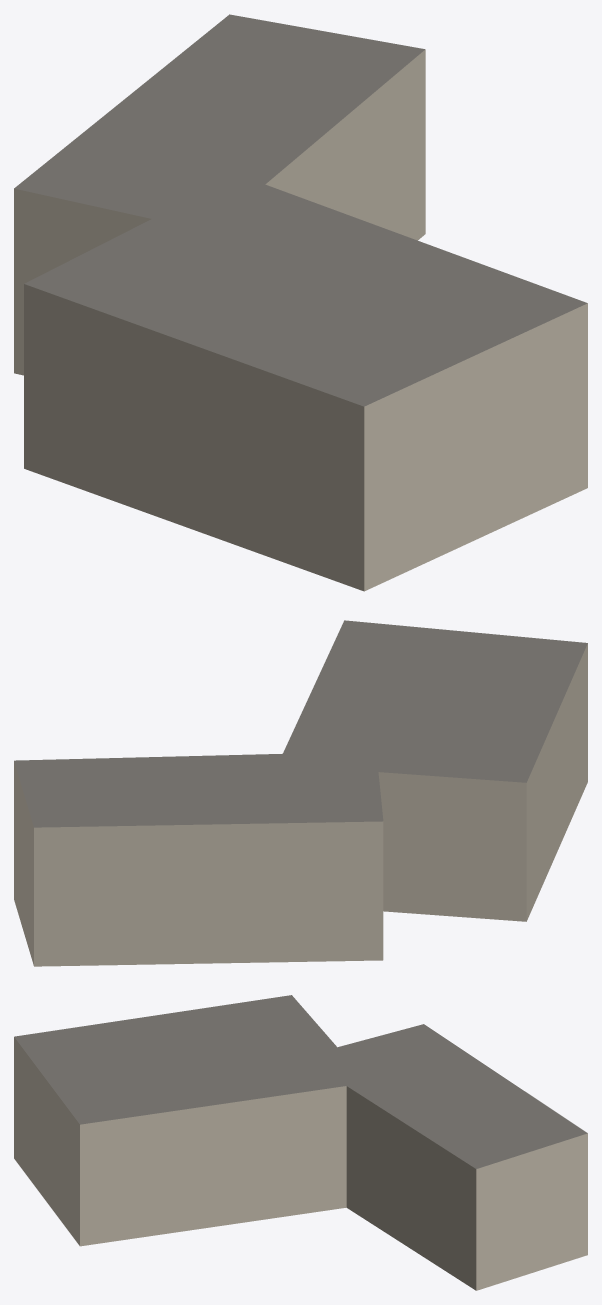
3 views of the same model, one above another, from view 1: azimuth 30°, elevation 25°; view 2: azimuth 150°, elevation 25°; view 3: azimuth 270°, elevation 25° (orthographic). The views are drawn at different scales.
Parts seen in each view (by area): view 1: HP-w505633364; view 2: HP-w505633364; view 3: HP-w505633364.
Part boxes in pixels (bbox=[...]): HP-w505633364: bbox=[14, 14, 587, 591]; HP-w505633364: bbox=[14, 620, 587, 966]; HP-w505633364: bbox=[14, 995, 587, 1290].
Size of the model in its own units: 46 by 15 by 64.08.
